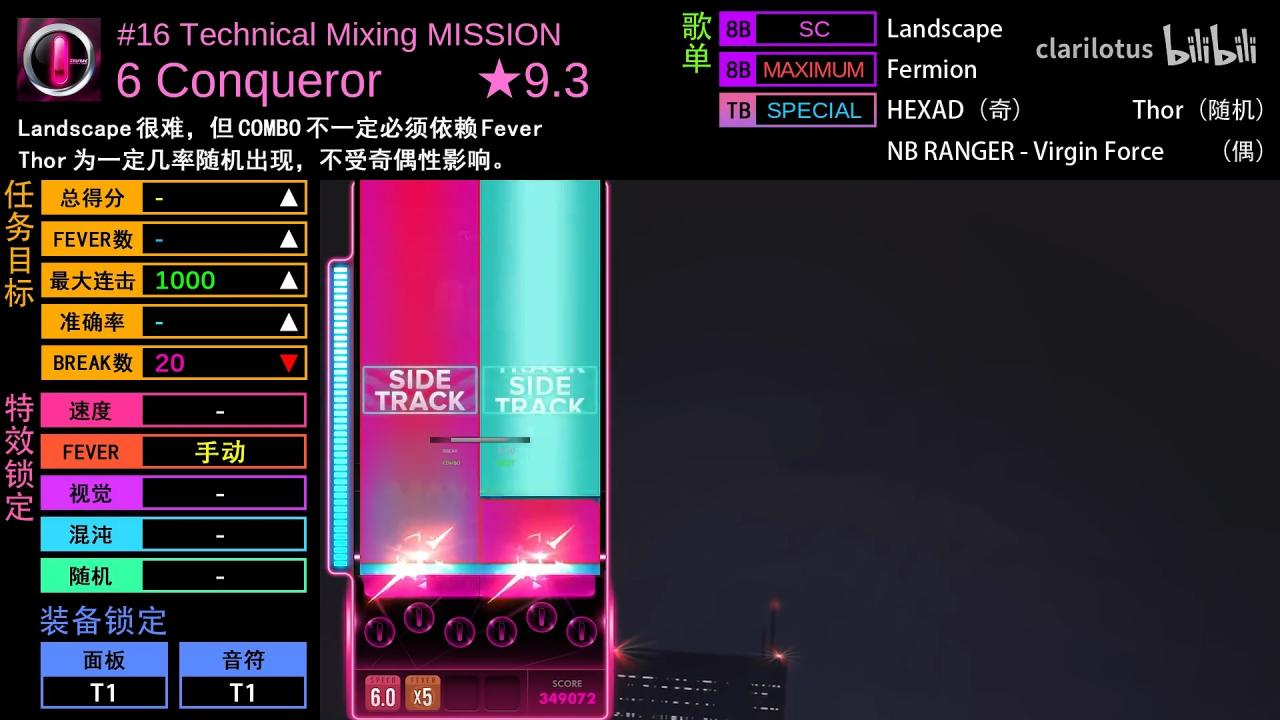side-start: (480, 481, 600, 499)
